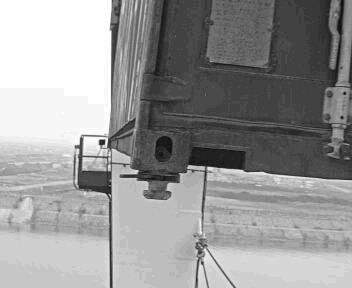twist_lock_1: (132, 165, 188, 206)
